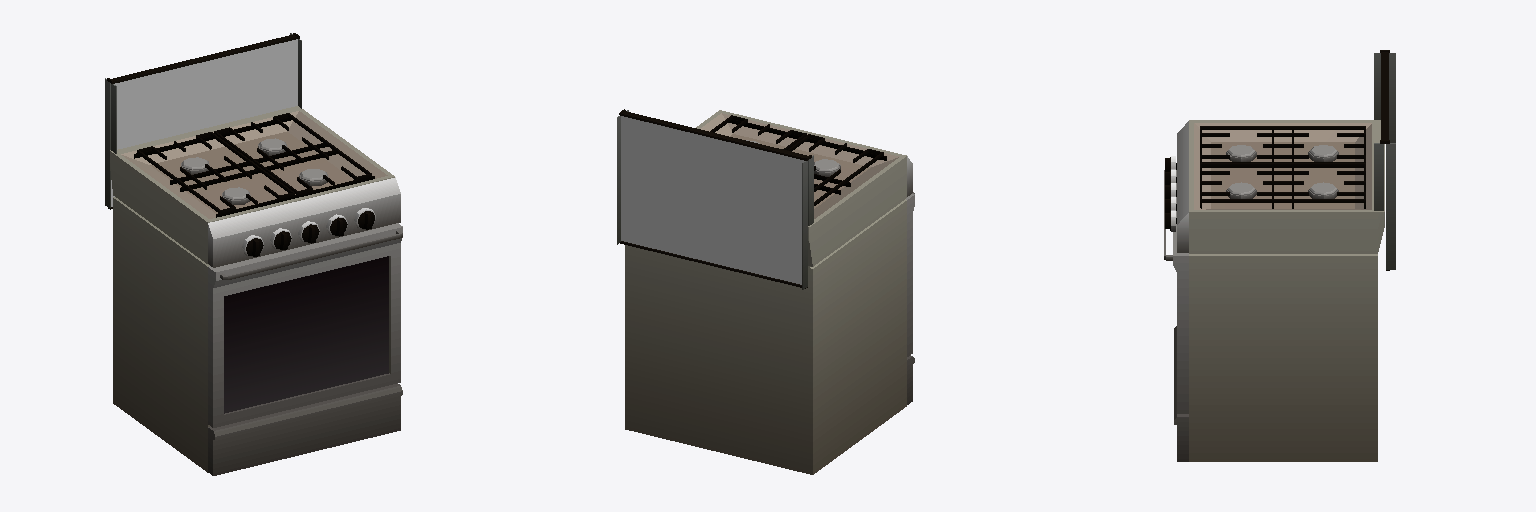
3 renders of one model, left to right at view 1: azimuth 30°, elevation 25°; view 2: azimuth 150°, elevation 25°; view 3: azimuth 270°, elevation 25°, orthographic.
Parts seen in each view (by area): view 1: fogao; view 2: fogao; view 3: fogao.
Boxes of the visible parts, <box> form: fogao: <box>105,33,402,475</box>; fogao: <box>617,109,914,474</box>; fogao: <box>1164,50,1395,461</box>.
Bounding box in the file's own units: 0.5334 × 0.8723 × 0.5726.
Materials: 2 (1 with a texture image).